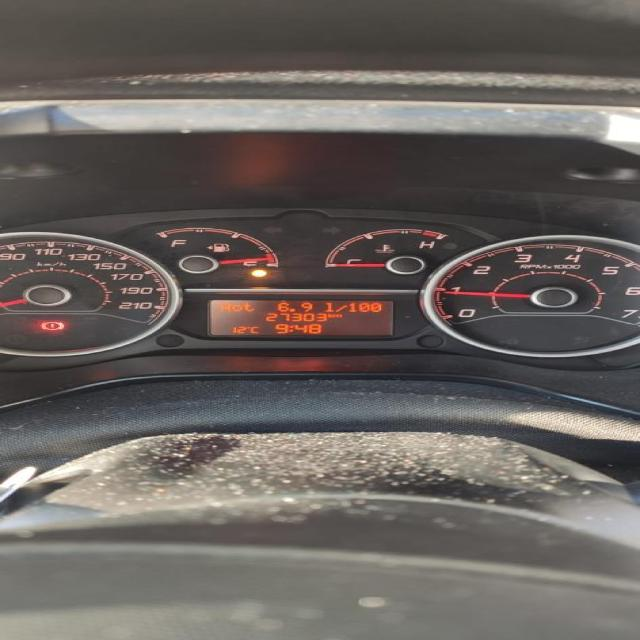odometer: (201, 296, 397, 340)
